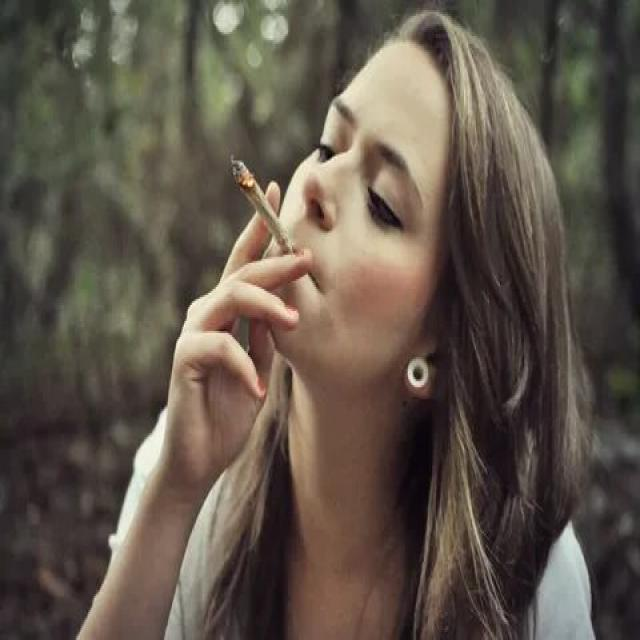smoke: (229, 154, 295, 263)
